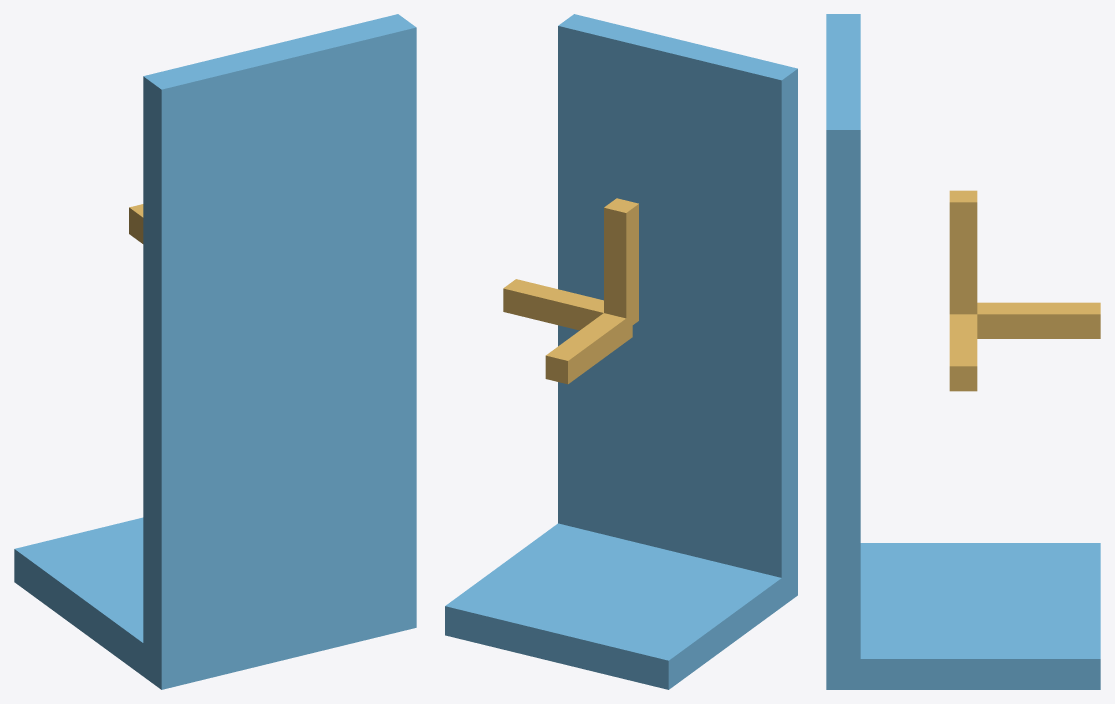
Rendered from socket_receiver.glb.
The picture shows the model from 3 angles, left to right: view 1: azimuth 30°, elevation 25°; view 2: azimuth 150°, elevation 25°; view 3: azimuth 270°, elevation 25°; orthographic projection. The views are drawn at different scales.
Parts seen in each view (by area): view 1: socket_receiver; view 2: socket_receiver; view 3: socket_receiver.
Part boxes in pixels (x1,y1,x2,y2): socket_receiver: [14, 14, 416, 689]; socket_receiver: [445, 14, 797, 689]; socket_receiver: [826, 14, 1100, 689].
Size of the model in its own units: 0.4 by 0.9 by 0.4.
